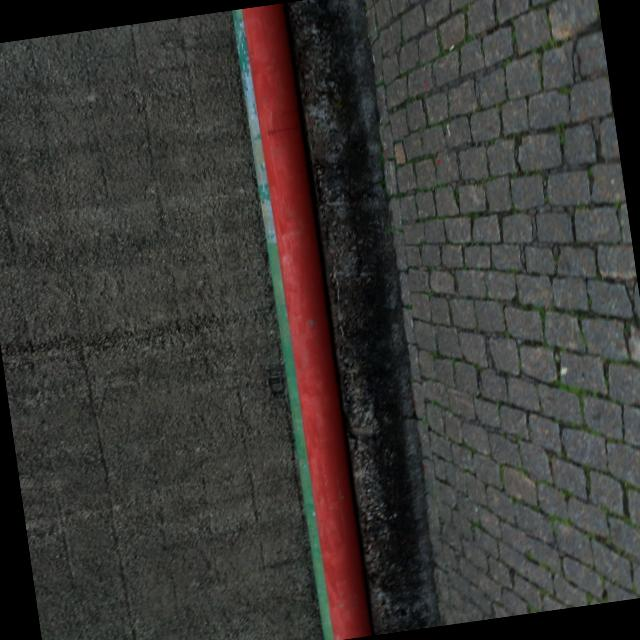gas: (243, 1, 374, 640)
